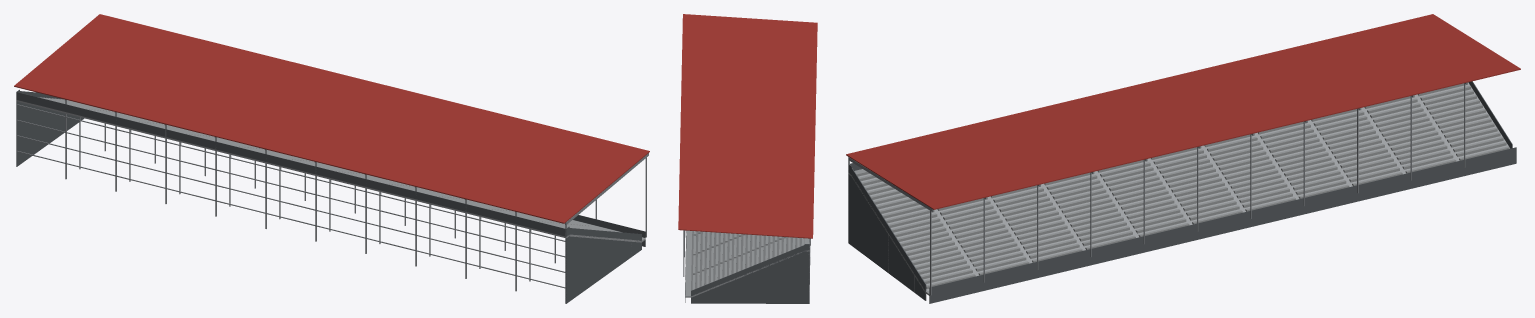
Rendered from spa_stand_trib_f1.glb.
3 renders of one model, left to right at view 1: azimuth 30°, elevation 25°; view 2: azimuth 150°, elevation 25°; view 3: azimuth 270°, elevation 25°, orthographic. The views are drawn at different scales.
Parts seen in each view (by area): view 1: spa-trib-f1; view 2: spa-trib-f1; view 3: spa-trib-f1.
Part boxes in pixels (x1,y1,x2,y2): spa-trib-f1: [14, 14, 649, 303]; spa-trib-f1: [678, 14, 817, 303]; spa-trib-f1: [846, 14, 1520, 303].
Bounding box in the file's own units: 64.73 × 14.4 × 89.66.
